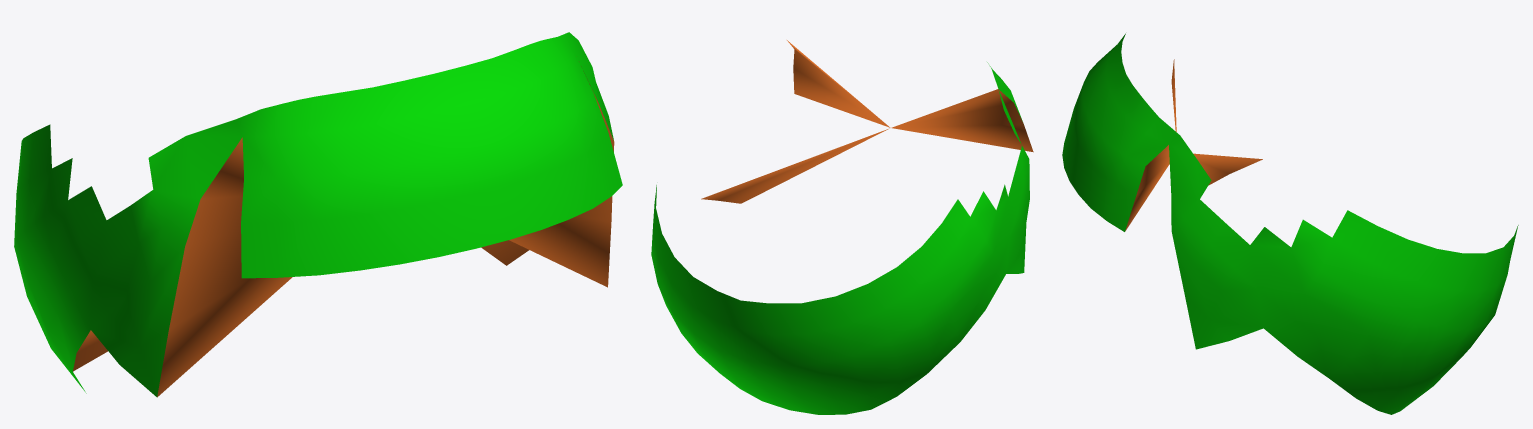
File: Hair2_26.glb
The picture shows the model from 3 angles, left to right: view 1: azimuth 30°, elevation 25°; view 2: azimuth 150°, elevation 25°; view 3: azimuth 270°, elevation 25°; orthographic projection. The views are drawn at different scales.
Size of the model in its own units: 55.41 by 49.59 by 60.75.
